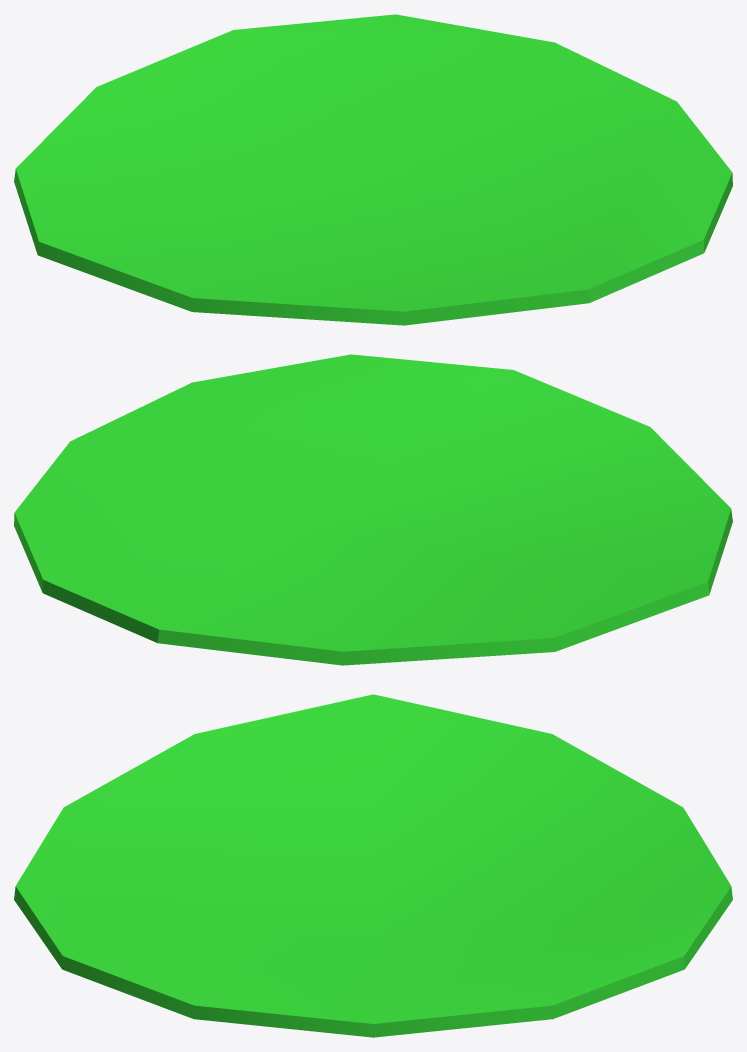
Rendered from leaf.fbx.
3 renders of one model, top to bottom at view 1: azimuth 30°, elevation 25°; view 2: azimuth 150°, elevation 25°; view 3: azimuth 270°, elevation 25°, orthographic.
Parts seen in each view (by area): view 1: leaf; view 2: leaf; view 3: leaf.
Boxes of the visible parts, box(x1,y1,x2,y2) form: leaf: box(14, 14, 732, 325); leaf: box(14, 354, 732, 665); leaf: box(14, 694, 732, 1037).
Size of the model in its own units: 0.4081 by 0.0374 by 0.3937.
